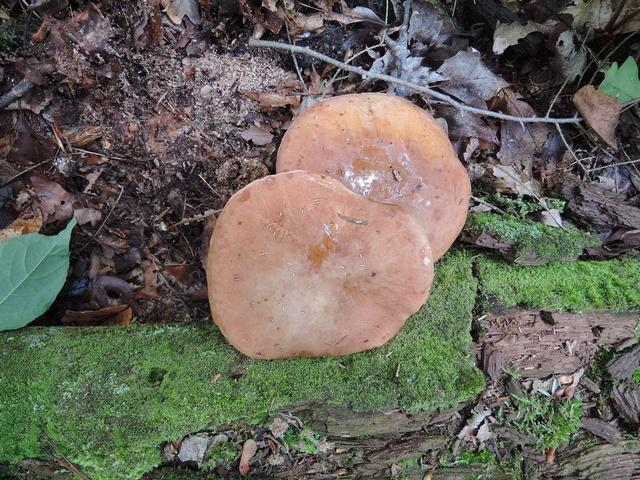poisonous_mushroom: (204, 90, 472, 360)
